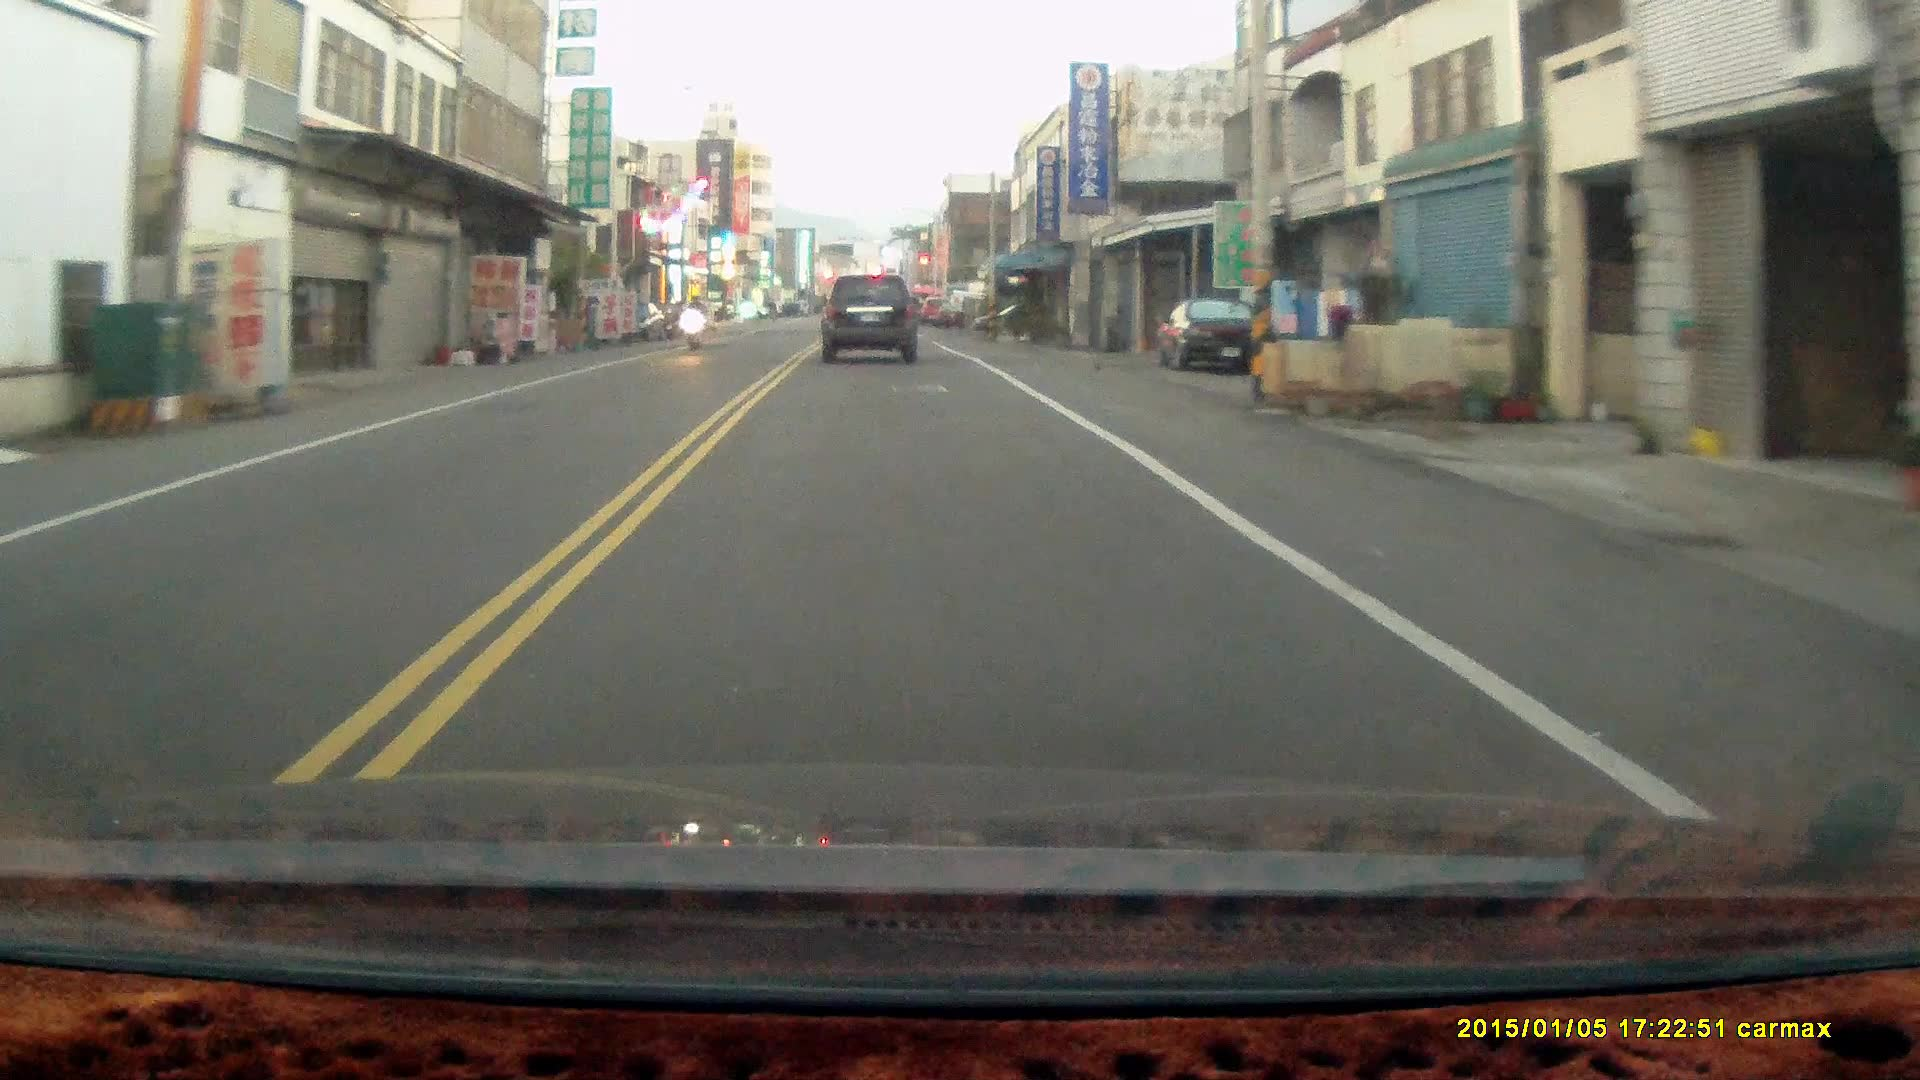rider: (677, 293, 705, 351)
vehicle: (1159, 299, 1277, 378), (823, 275, 922, 367)
